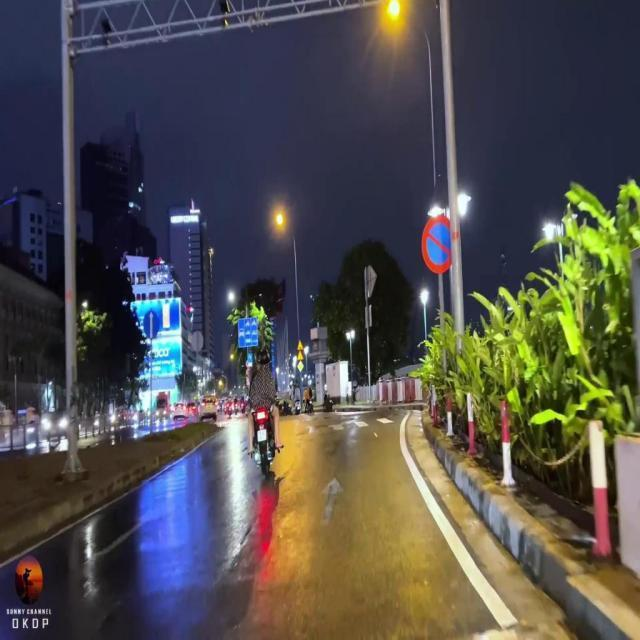131a-cam-do-xe: (422, 214, 456, 273)
407a-duong-mot-chieu: (144, 310, 160, 338)
